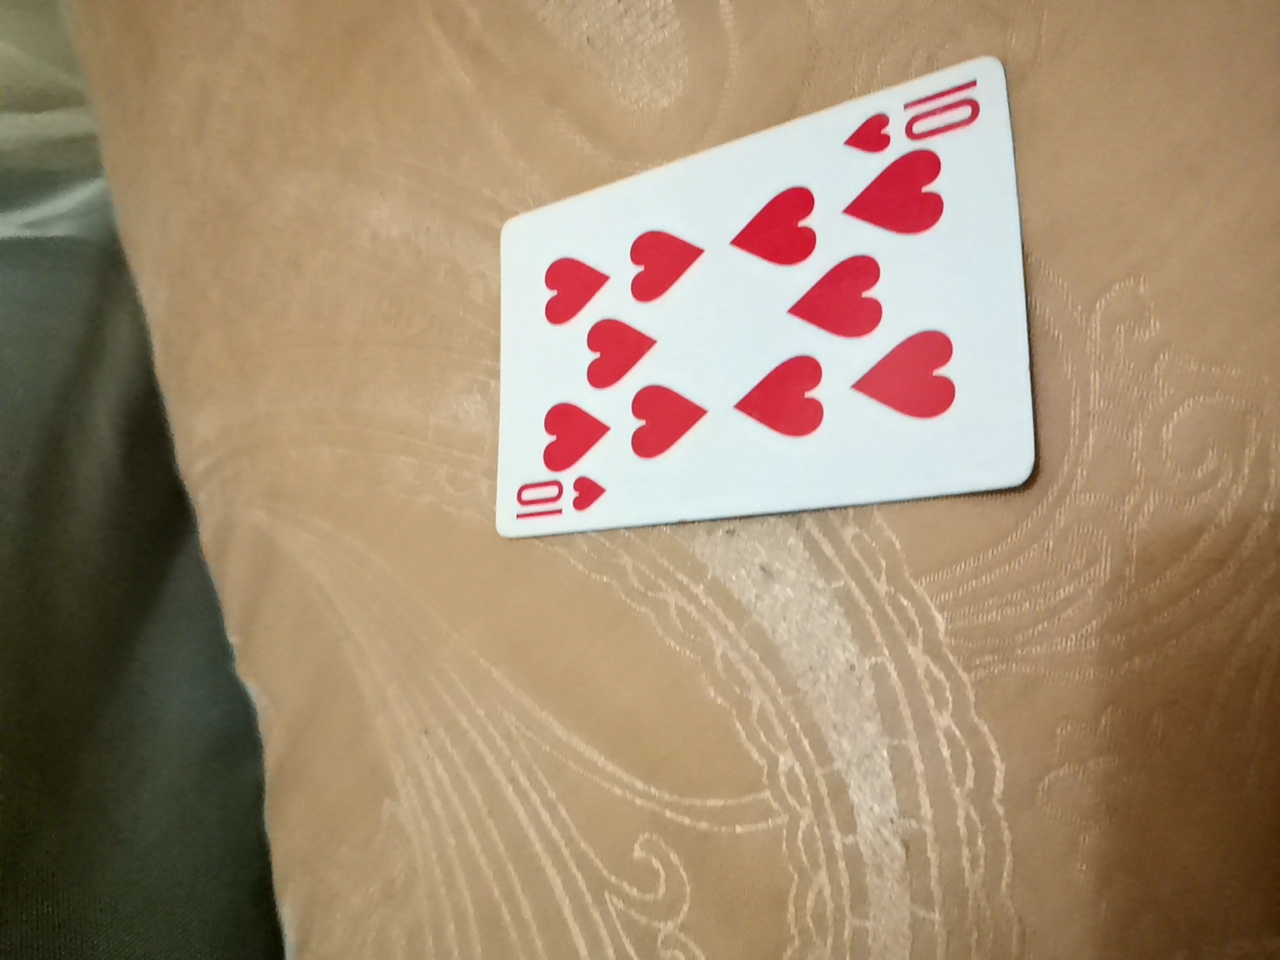hx 10: (479, 99, 1016, 563)
